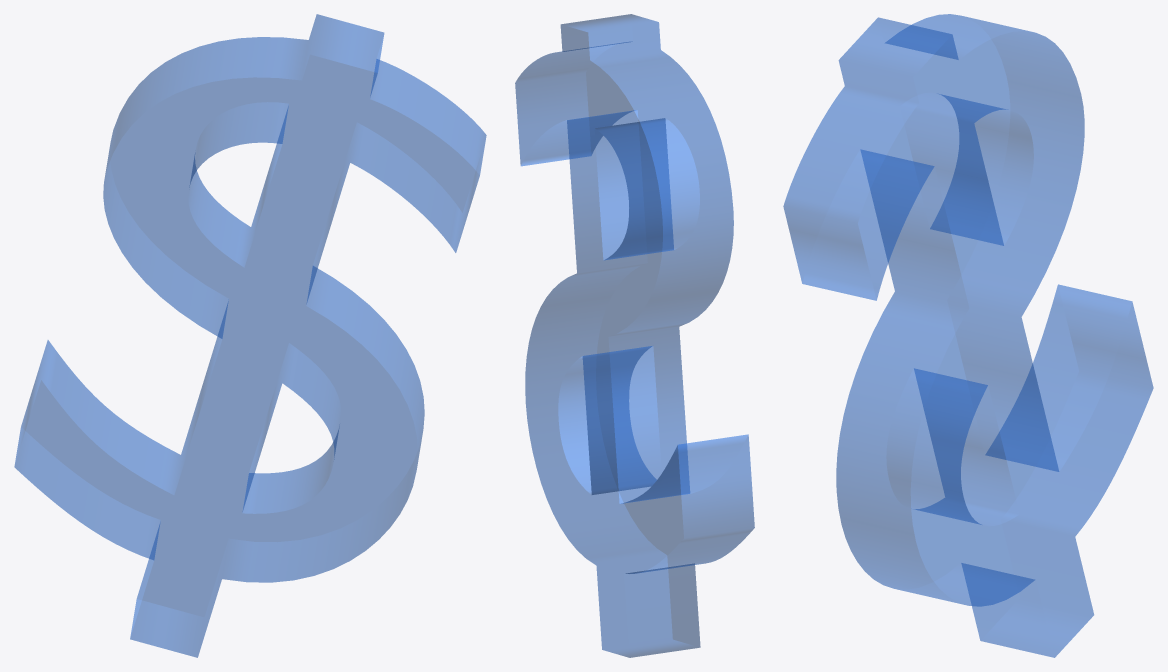
Rendered from money.glb.
The picture shows the model from 3 angles, left to right: view 1: azimuth 30°, elevation 25°; view 2: azimuth 150°, elevation 25°; view 3: azimuth 270°, elevation 25°; orthographic projection. The views are drawn at different scales.
Parts seen in each view (by area): view 1: Text; view 2: Text; view 3: Text.
Part boxes in pixels (x1,y1,x2,y2): Text: [14, 14, 486, 657]; Text: [515, 14, 754, 657]; Text: [783, 14, 1153, 657].
Bounding box in the file's own units: 0.7545 × 1.23 × 0.6261.
